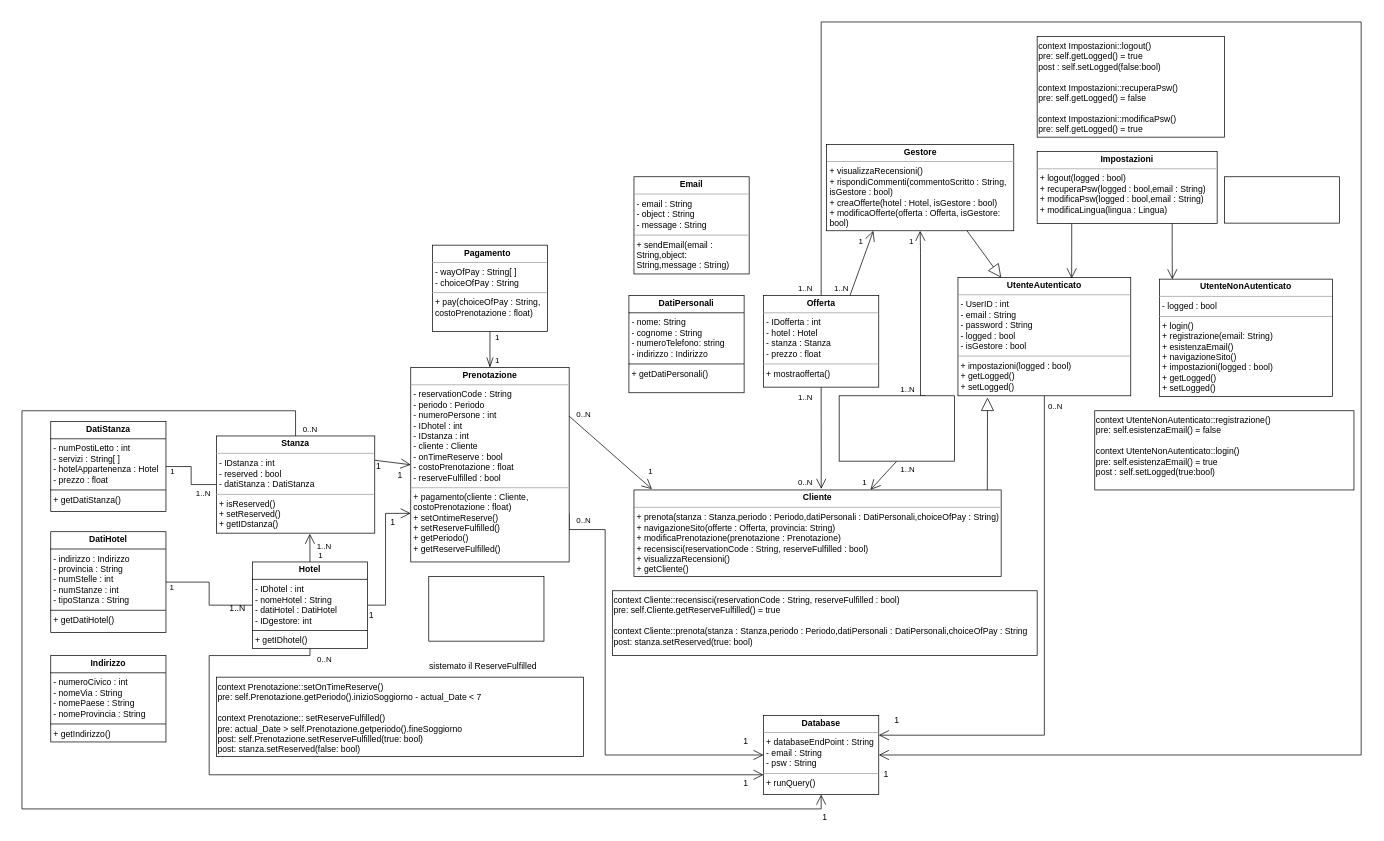
This 1384x841 diagram has some shape labels left out. Each missing label, with the box of its shape:
Lingua + lingua : String + codiceLingua : String: (1224, 176, 1340, 223)
Periodo - inizioSoggiorno: Date - fineSoggiorno : Date + getPeriodo(): (428, 576, 544, 641)
Recensione - numeroStelle : int - commentoScritto : String + getRecensione(): (838, 395, 954, 461)
